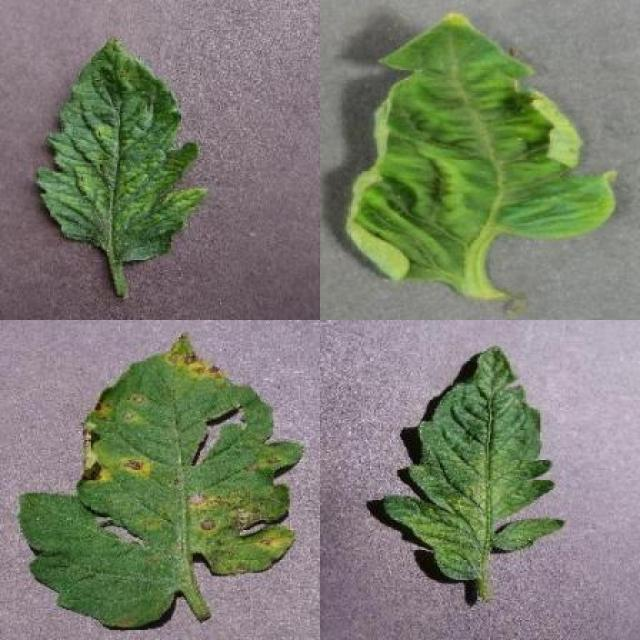Mosaic Virus: (378, 345, 565, 584), (36, 39, 207, 264)
Septoria: (20, 333, 306, 633)
Yellow Leaf Curl Virus: (347, 12, 620, 282)
